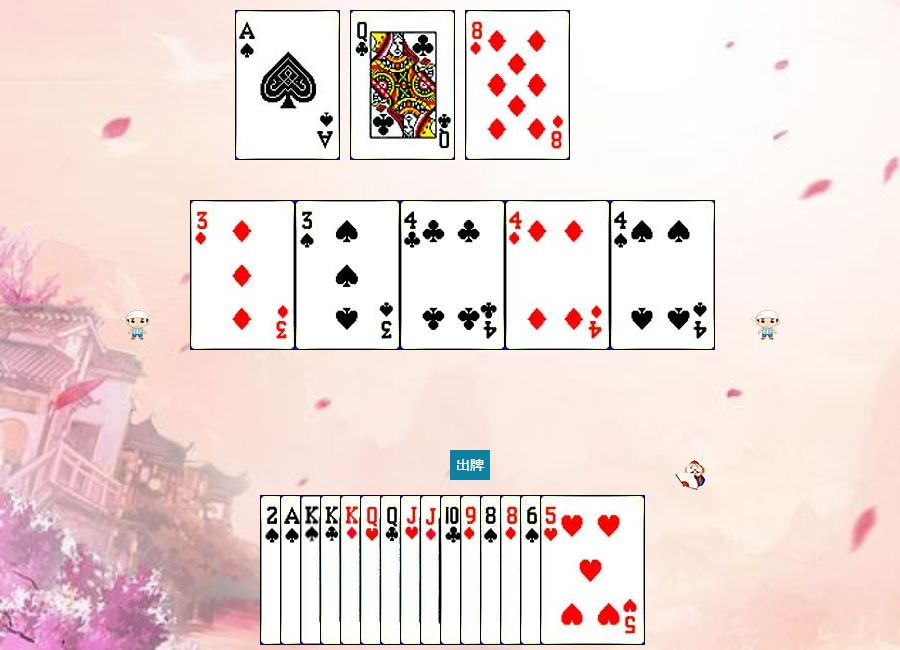10~2: (440, 495, 545, 645)
11~1: (420, 495, 525, 645)
11~3: (400, 495, 505, 645)
12~2: (350, 10, 455, 160), (380, 495, 485, 645)
12~3: (360, 495, 465, 645)
13~1: (340, 495, 445, 645)
13~2: (320, 495, 425, 645)
13~4: (300, 495, 405, 645)
14~4: (235, 10, 340, 160), (280, 495, 385, 645)
15~4: (260, 495, 365, 645)
3~1: (190, 200, 295, 350)
3~4: (295, 200, 400, 350)
4~1: (505, 200, 610, 350)
4~2: (400, 200, 505, 350)
4~4: (610, 200, 715, 350)
5~3: (540, 495, 645, 645)
6~4: (520, 495, 625, 645)
8~1: (465, 10, 570, 160), (500, 495, 605, 645)
8~4: (480, 495, 585, 645)
9~1: (460, 495, 565, 645)
